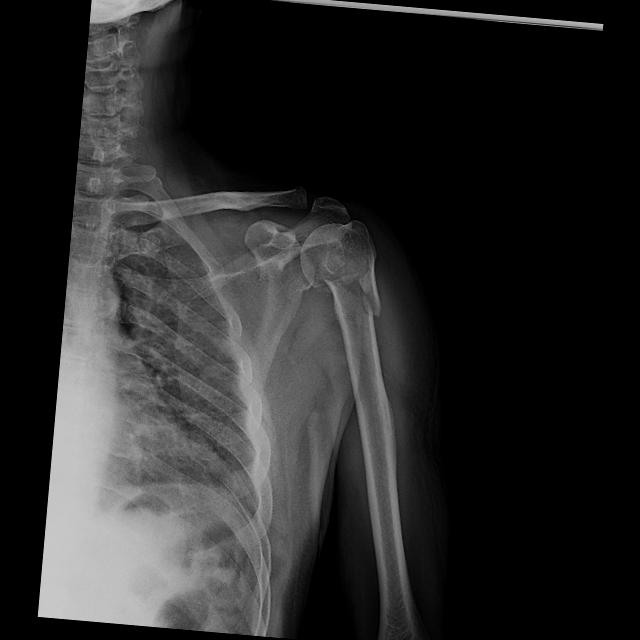Fracture: (326, 255, 384, 319)
